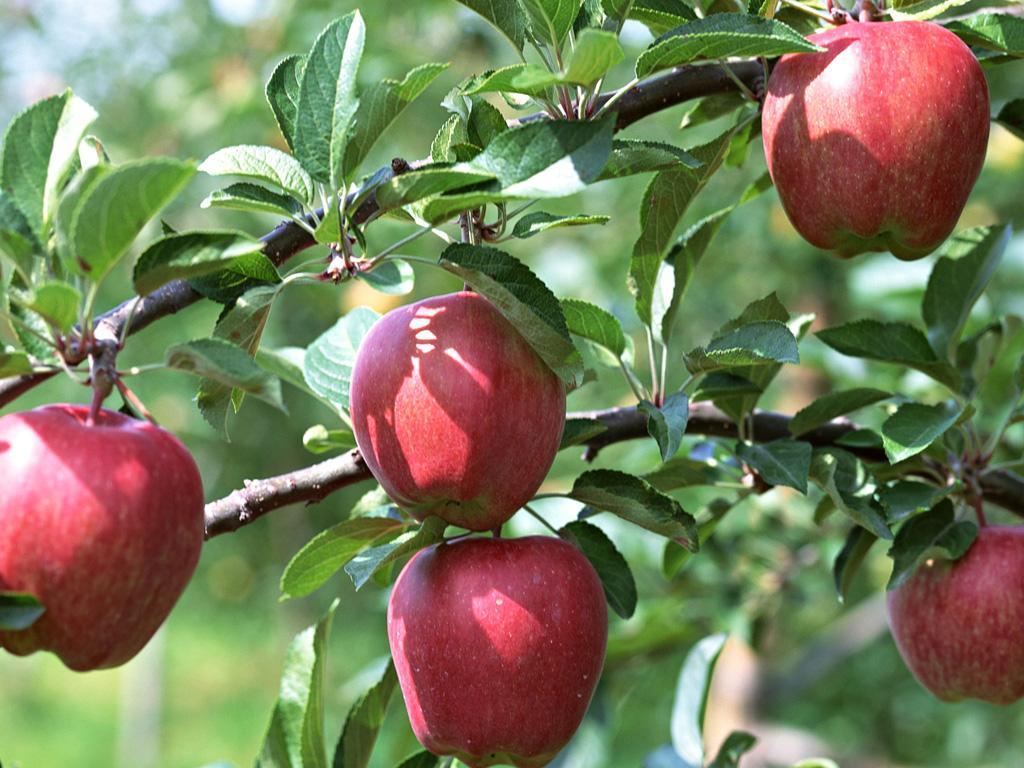apple: (759, 18, 993, 261), (1, 406, 210, 674), (385, 534, 619, 759), (348, 293, 562, 521), (885, 523, 1022, 707)
